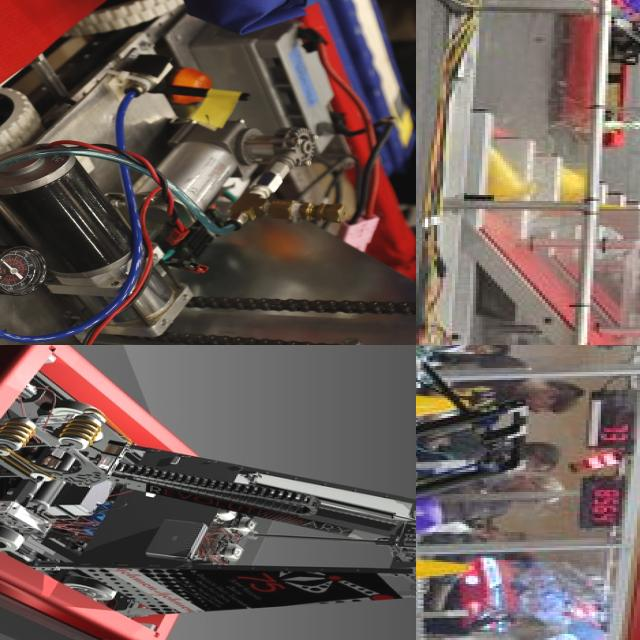FRC-Robots: (0, 0, 416, 345), (0, 345, 416, 640), (416, 345, 531, 640), (566, 3, 640, 161)
